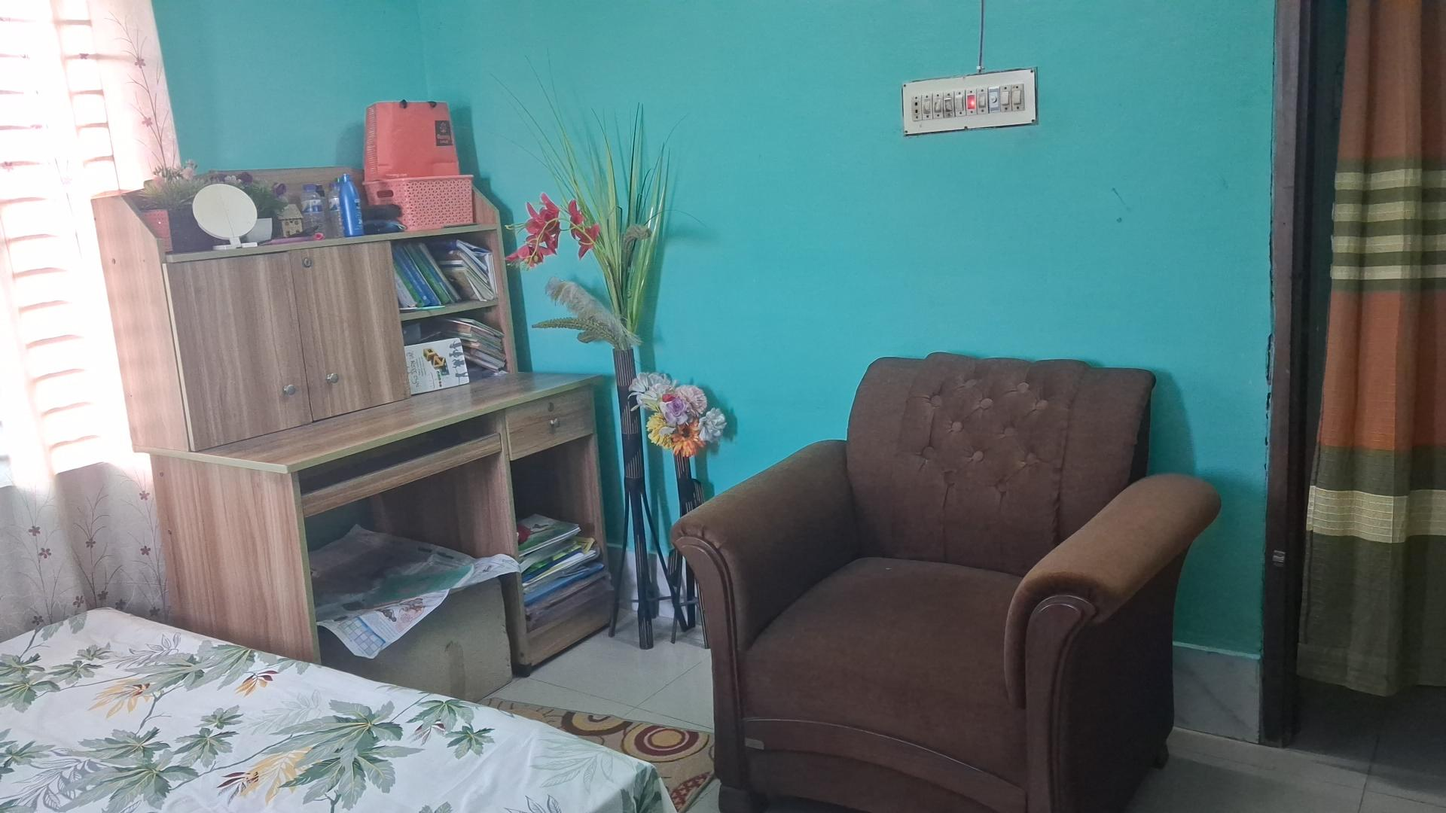Basket: (365, 179, 475, 230)
Book: (402, 342, 466, 388)
Bottle: (339, 170, 365, 237), (303, 182, 328, 237)
Drawer: (506, 397, 600, 457)
Table: (113, 162, 602, 677)
